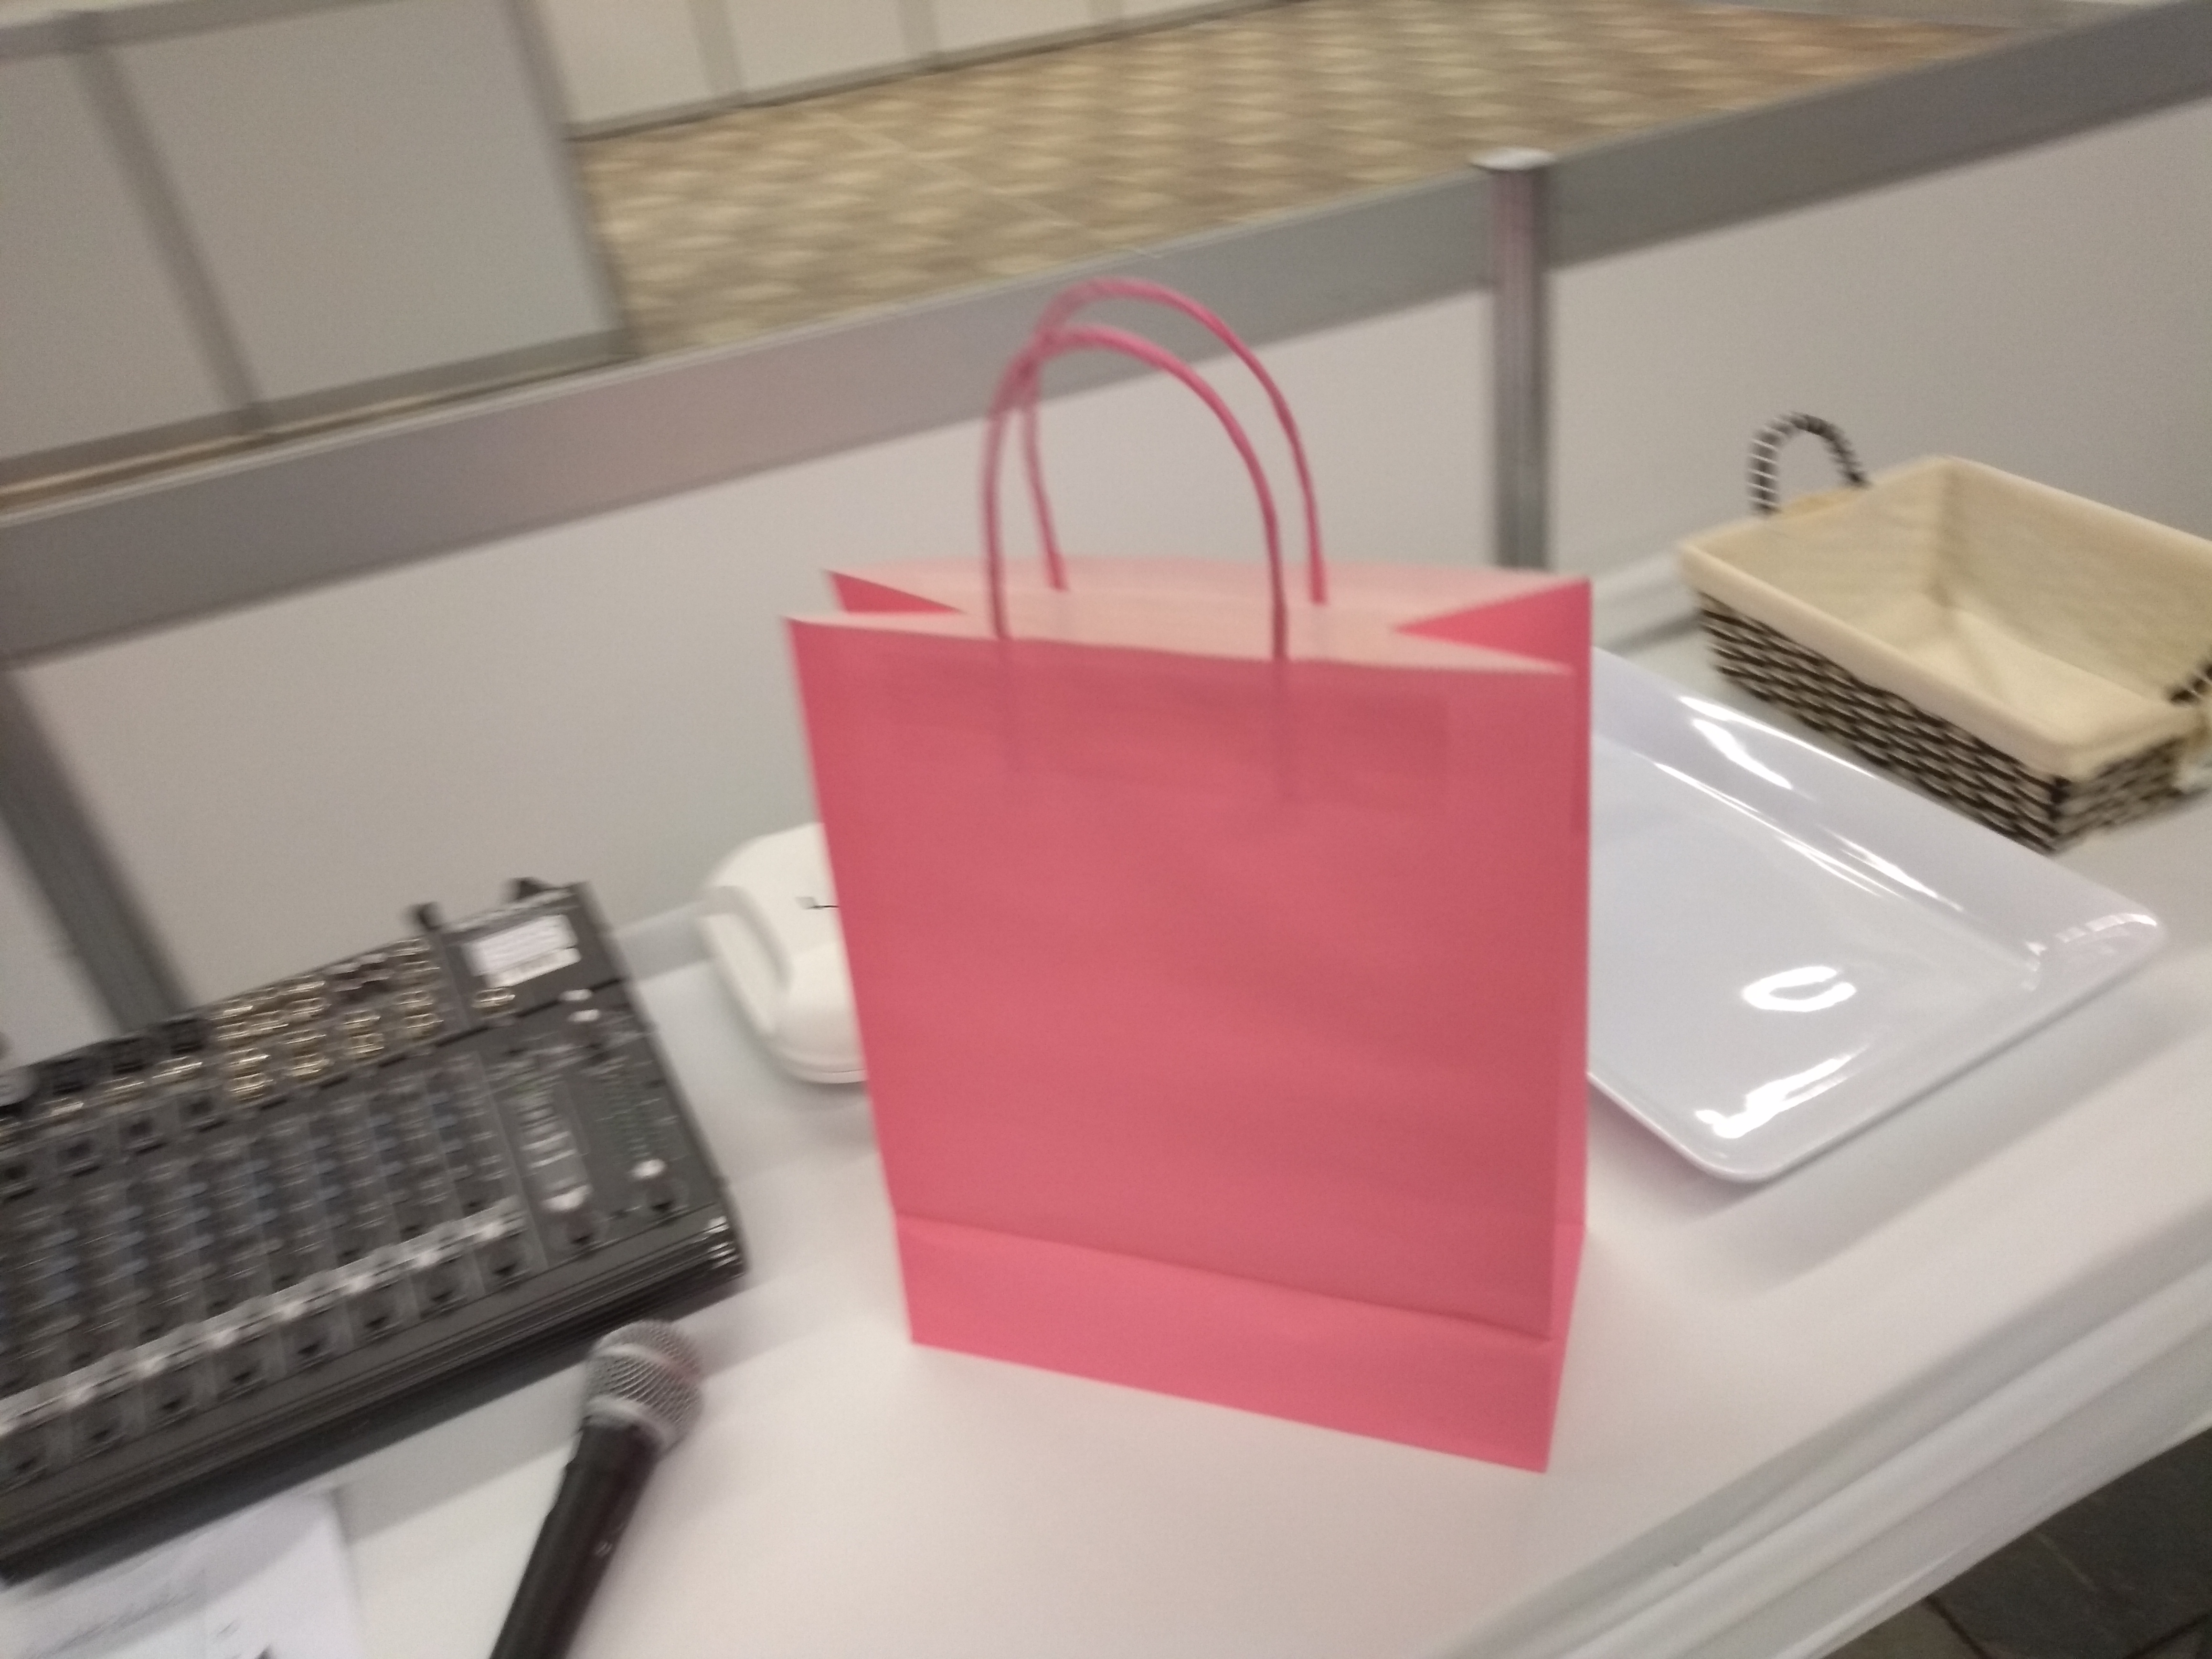basket: (1676, 410, 2212, 875)
help_me_carry_opl: (786, 275, 1629, 1507)
tray: (1576, 648, 2170, 1190)
